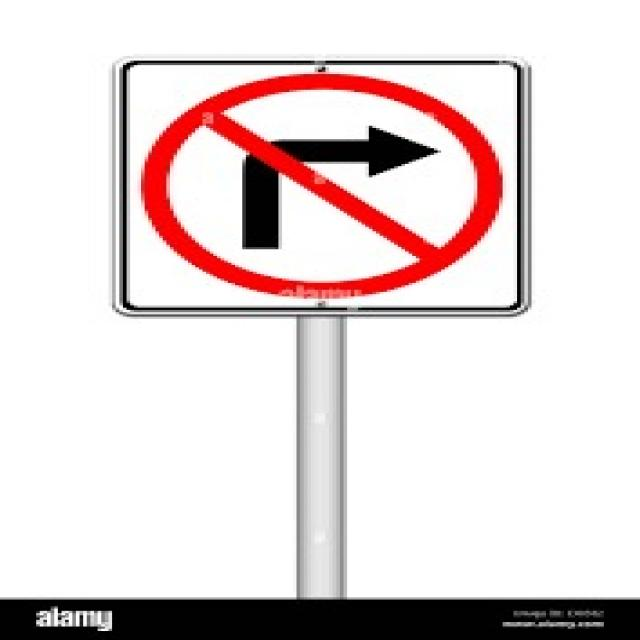do_not_turn_right: (133, 68, 511, 303)
